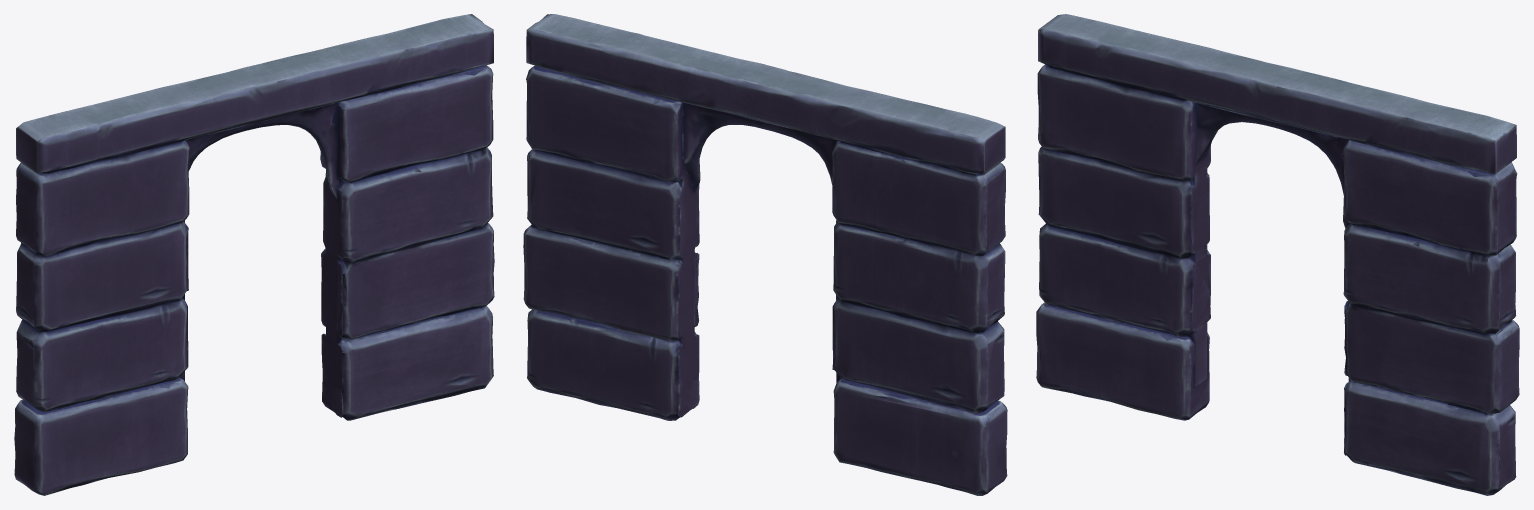
The model's file is ARC0110020.fbx.
3 renders of one model, left to right at view 1: azimuth 30°, elevation 25°; view 2: azimuth 150°, elevation 25°; view 3: azimuth 330°, elevation 25°, orthographic.
Parts seen in each view (by area): view 1: smARC0110020; view 2: smARC0110020; view 3: smARC0110020.
Part boxes in pixels (x1=…): smARC0110020: x1=14, y1=14, x2=494, y2=495; smARC0110020: x1=523, y1=14, x2=1007, y2=495; smARC0110020: x1=1036, y1=14, x2=1519, y2=495.
Bounding box in the file's own units: 476 × 355 × 48.88.
1 material, 1 textured.
